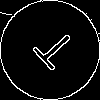T: (25, 25, 80, 78)
